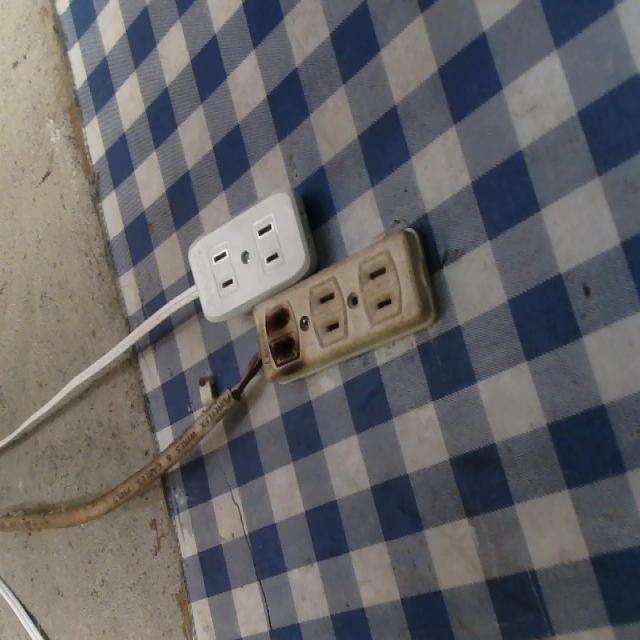-: (252, 297, 304, 379)
